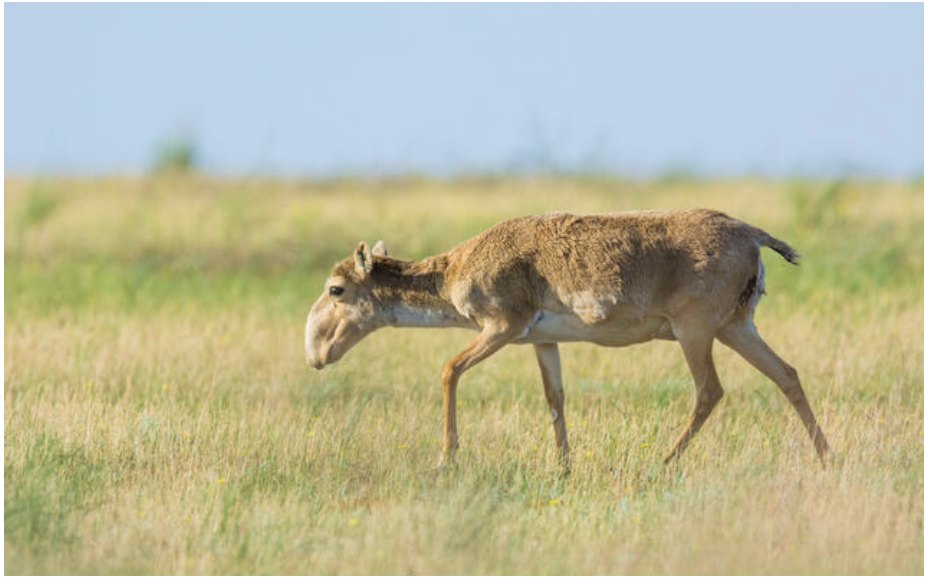saiga: (304, 201, 858, 529)
